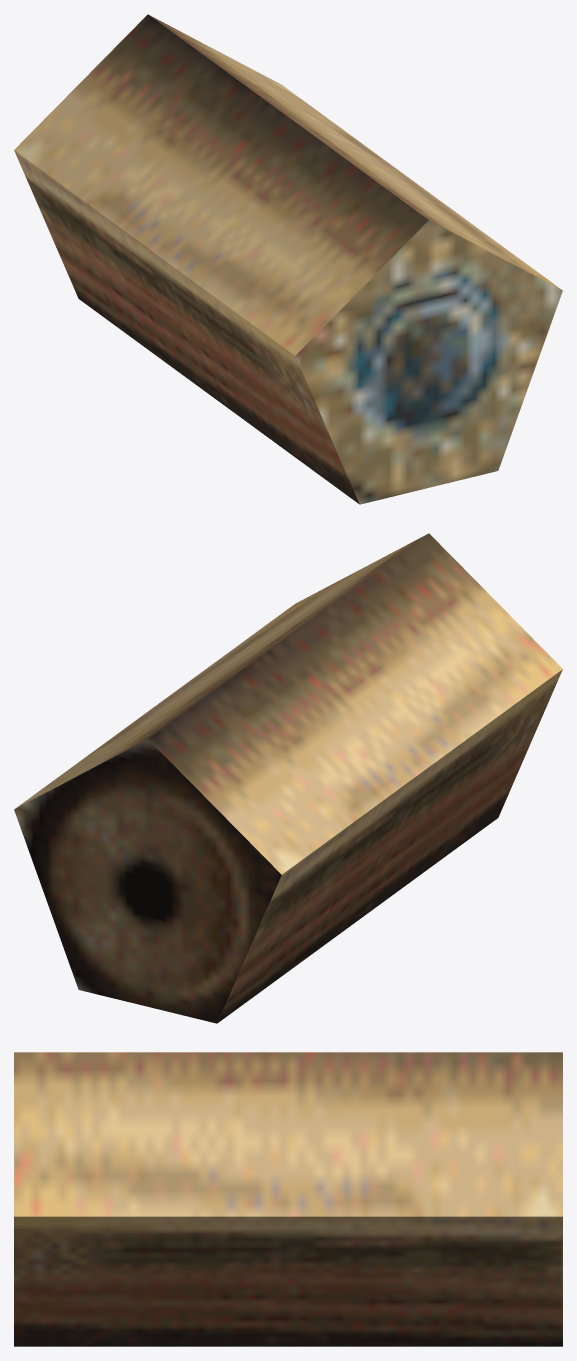
The model's file is casing9mm.glb.
3 renders of one model, top to bottom at view 1: azimuth 30°, elevation 25°; view 2: azimuth 150°, elevation 25°; view 3: azimuth 270°, elevation 25°, orthographic. The views are drawn at different scales.
Parts seen in each view (by area): view 1: Pistolspent; view 2: Pistolspent; view 3: Pistolspent.
Boxes of the visible parts, bbox=[...] form: Pistolspent: bbox=[14, 14, 562, 504]; Pistolspent: bbox=[14, 533, 562, 1023]; Pistolspent: bbox=[14, 1052, 562, 1346].
Bounding box in the file's own units: 0.0444 × 0.0424 × 0.0808.
Materials: 1 (1 with a texture image).
